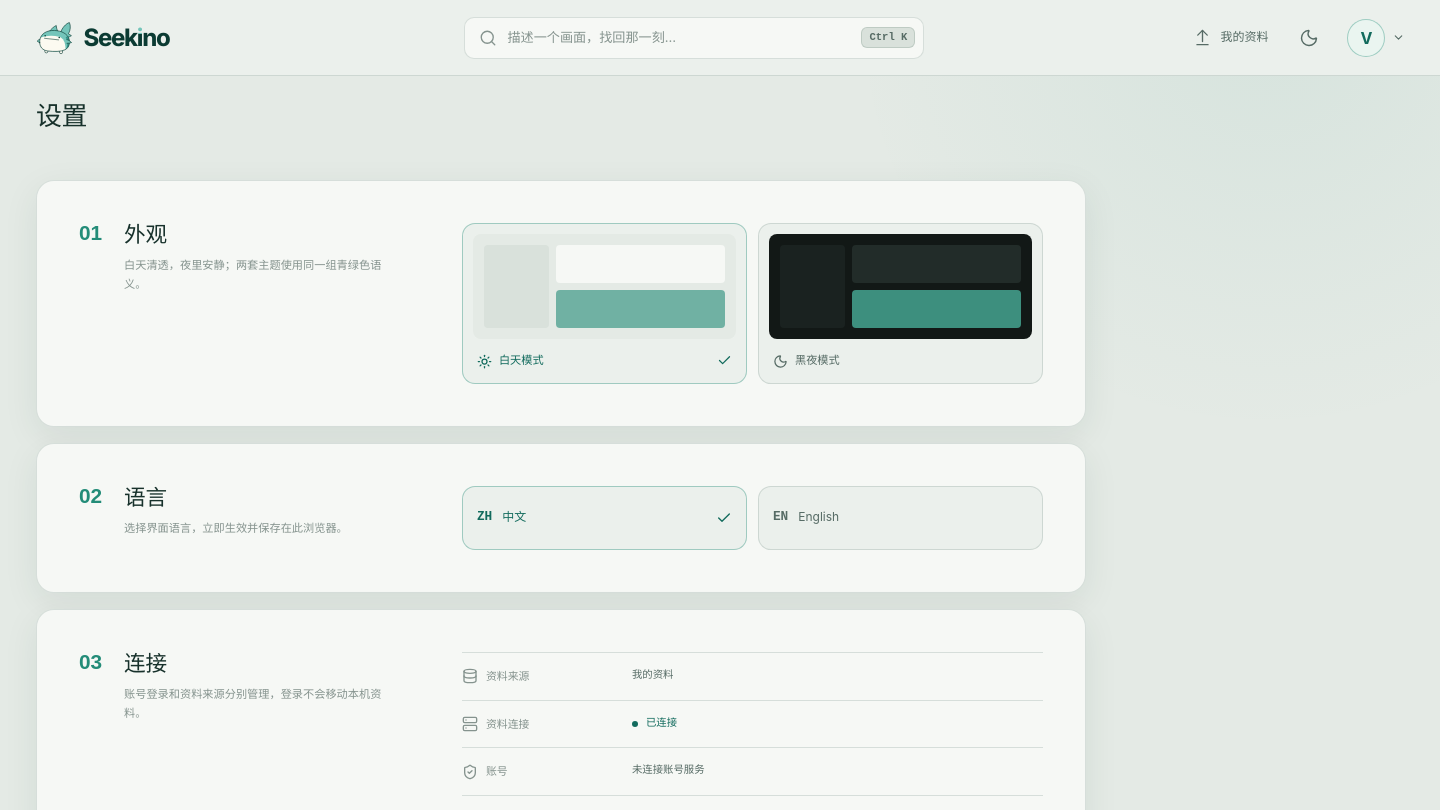
Test: application shell › allows local theme and language settings without configuration permission (guest=false)
Expected: the heading "设置" is shown, [36,102,87,130]
Expected: the heading "语言" is shown, [124,485,167,510]
Click the radio button labelled "黑夜模式" at (900, 304), box [758,223,1043,384]
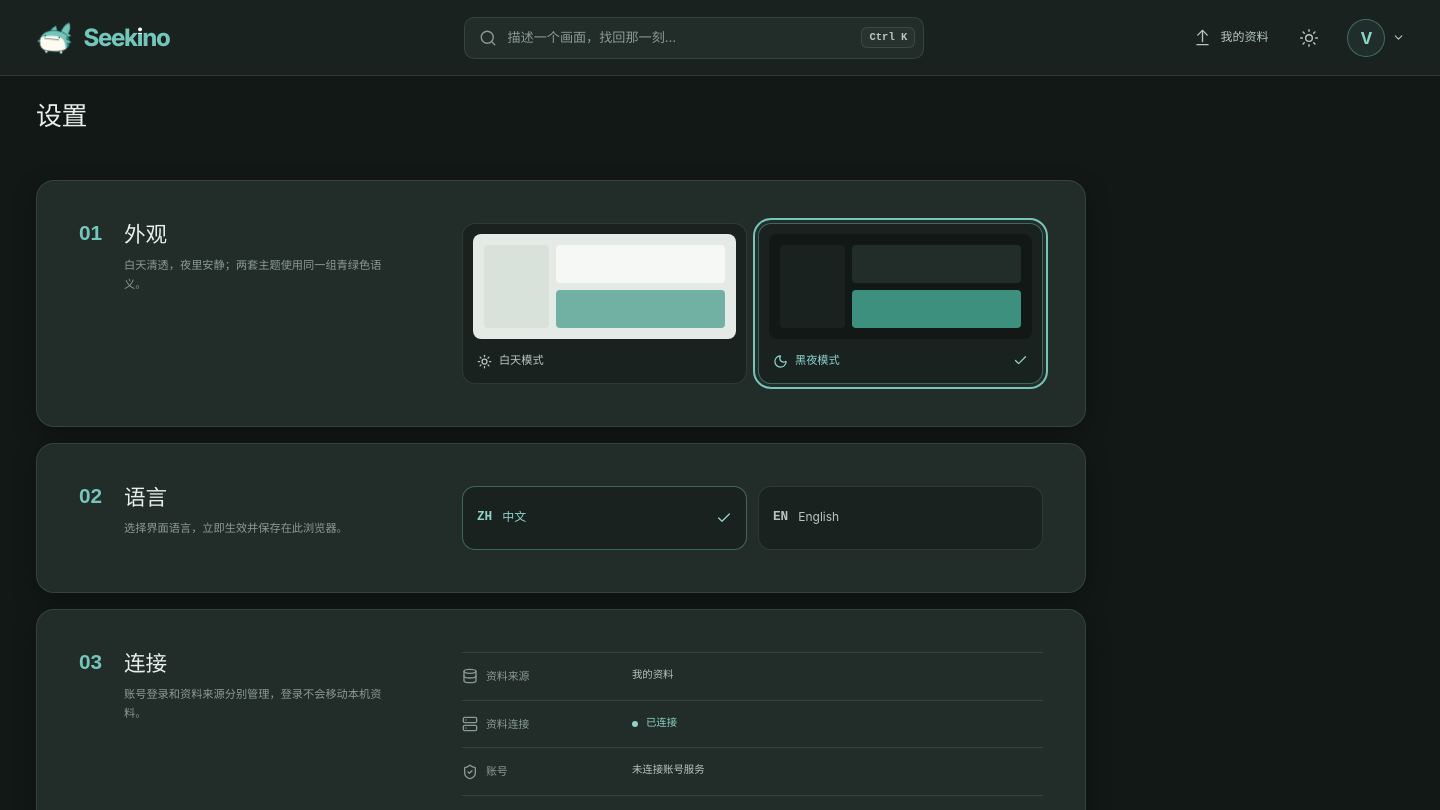
Click the radio button labelled "EN English" at (819, 517), box [758,486,1043,550]
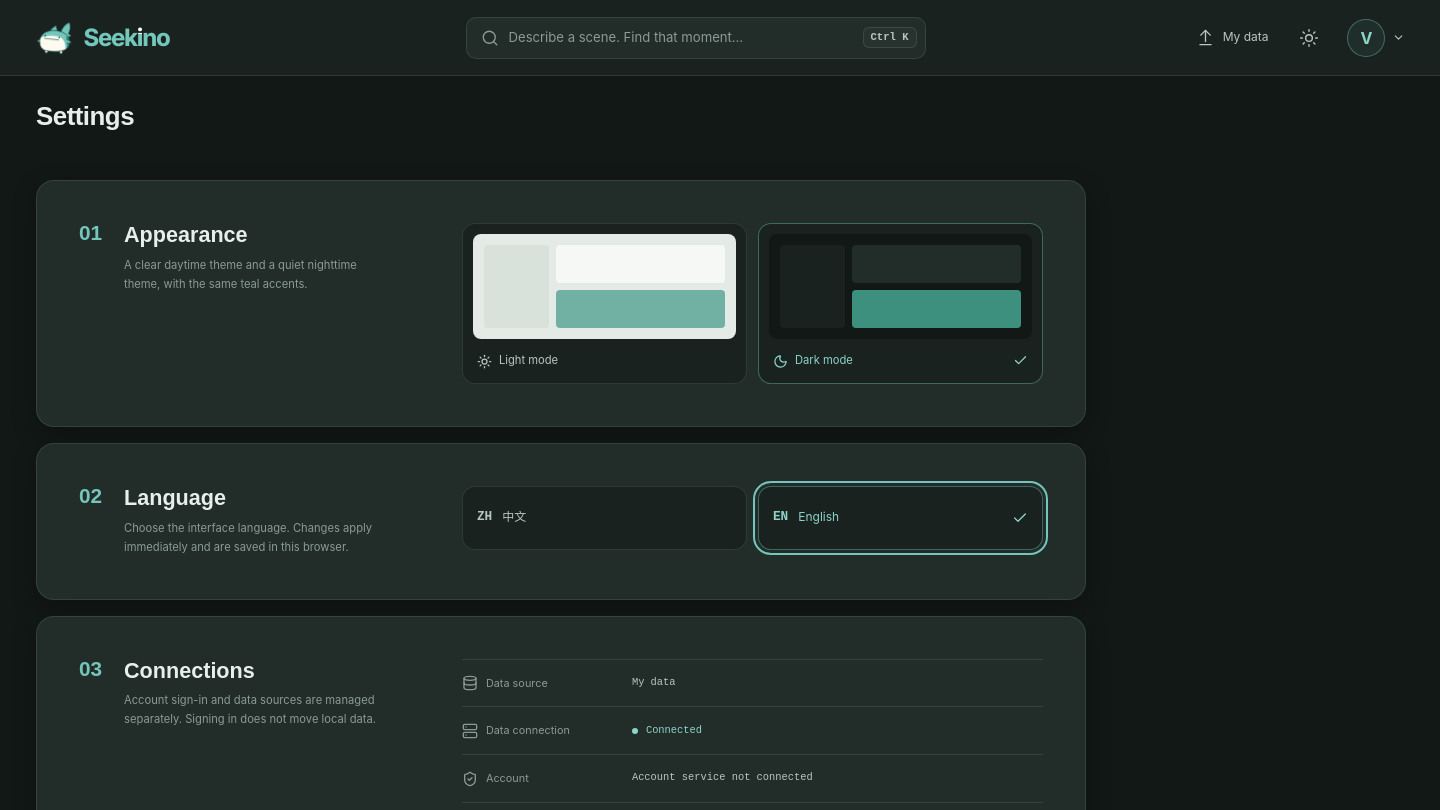
Expected: the heading "Settings" is shown, [36,102,134,130]
Click the button named "Open account menu" at (1373, 38), box [1340,16,1406,60]
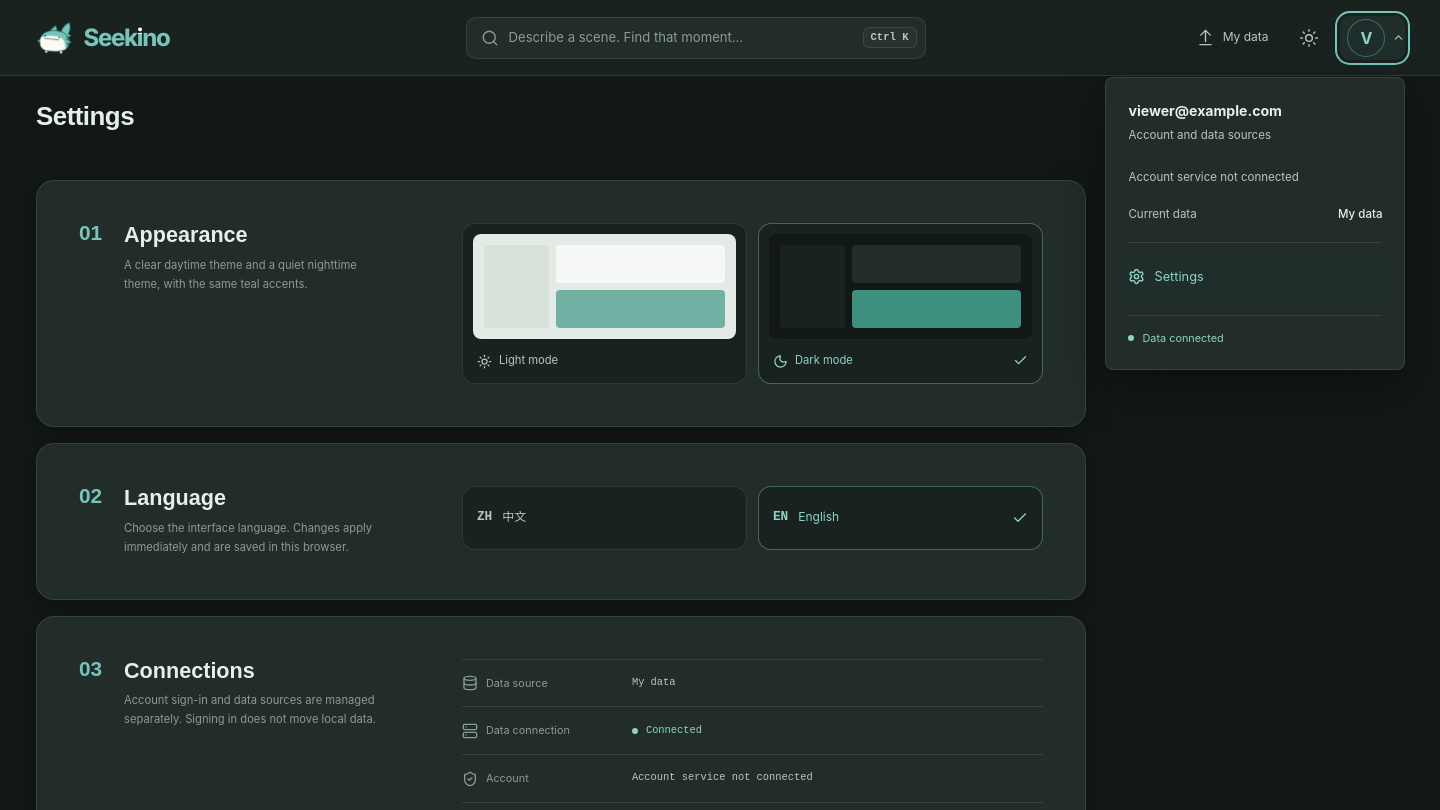
Expected: the link "Settings" is shown, [1120,257,1390,297]
Expected: the text "viewer@example.com" is shown, [1128,102,1282,118]
